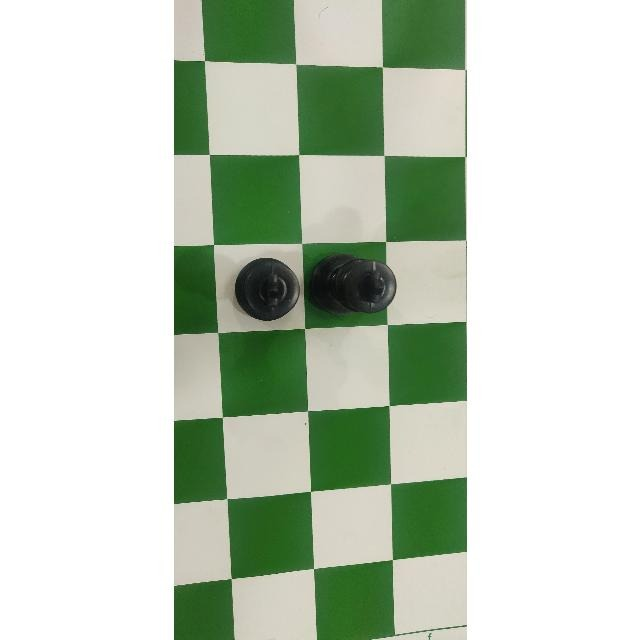black-king: (305, 253, 399, 327), (233, 256, 299, 322)
